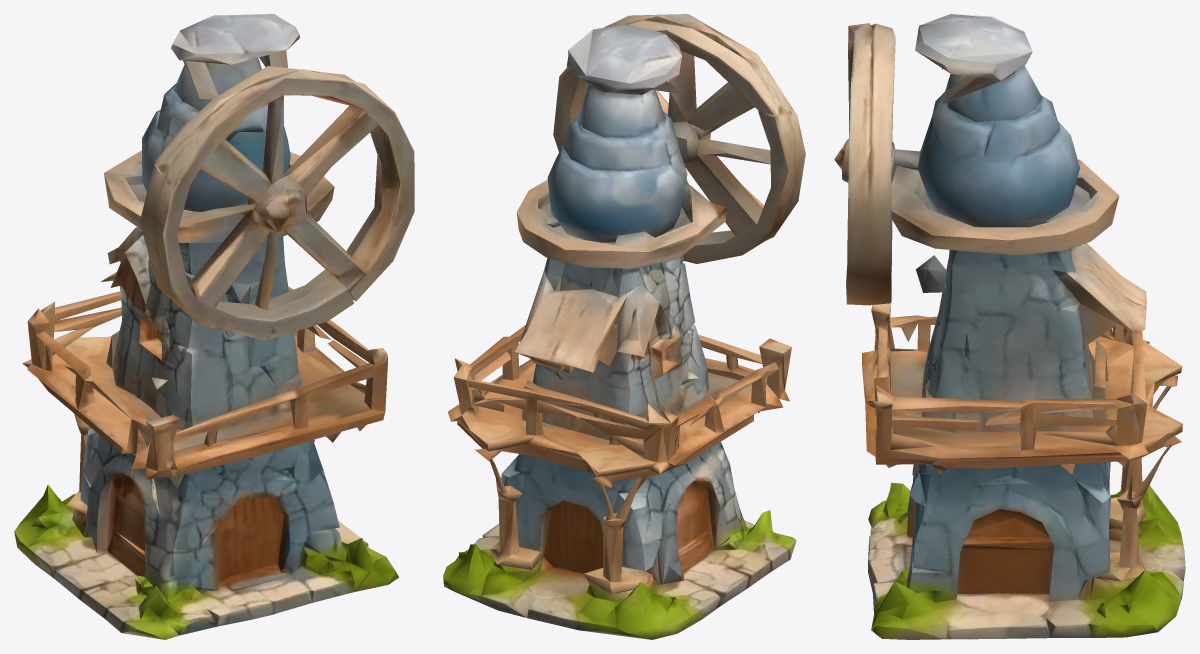
File: m2WindFanTower.glb
3 renders of one model, left to right at view 1: azimuth 30°, elevation 25°; view 2: azimuth 150°, elevation 25°; view 3: azimuth 270°, elevation 25°, orthographic. The views are drawn at different scales.
Parts seen in each view (by area): view 1: model; view 2: model; view 3: model.
Part boxes in pixels (bbox=[...]): model: bbox=[14, 14, 414, 639]; model: bbox=[443, 14, 805, 639]; model: bbox=[834, 14, 1185, 639].
Bounding box in the file's own units: 0.963 × 1.9 × 1.09.
Materials: 1 (1 with a texture image).
